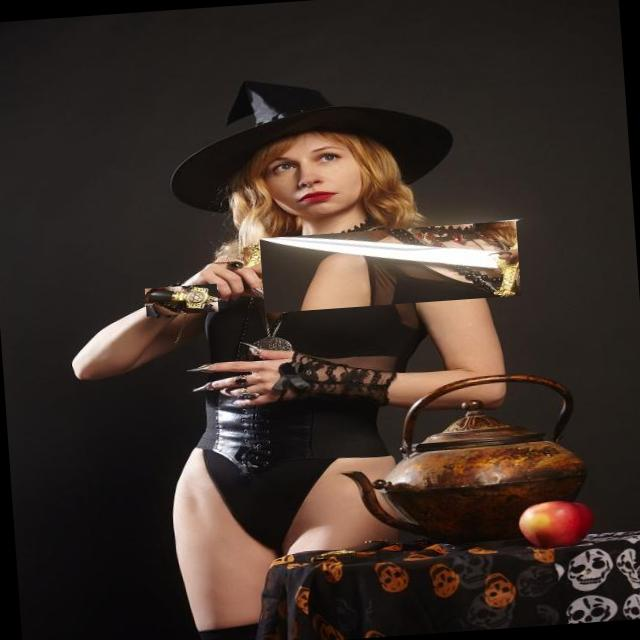Knife: (259, 237, 519, 296), (146, 285, 217, 312), (244, 246, 267, 267)
